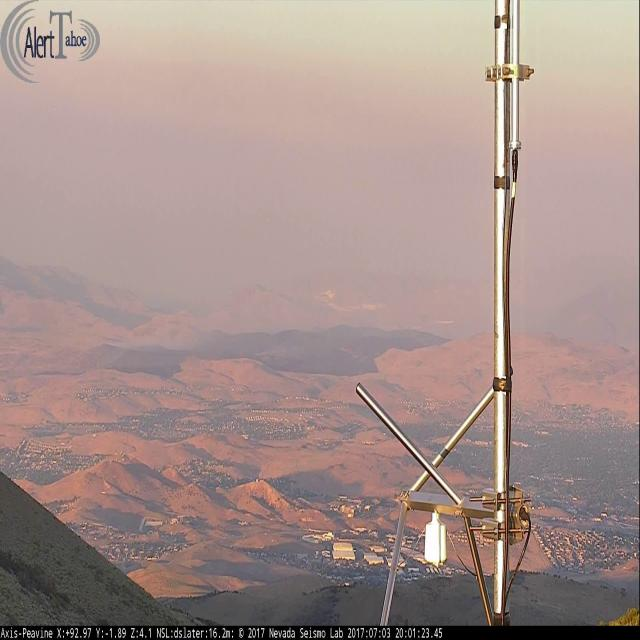smoke: (96, 314, 219, 371), (257, 324, 336, 357)
